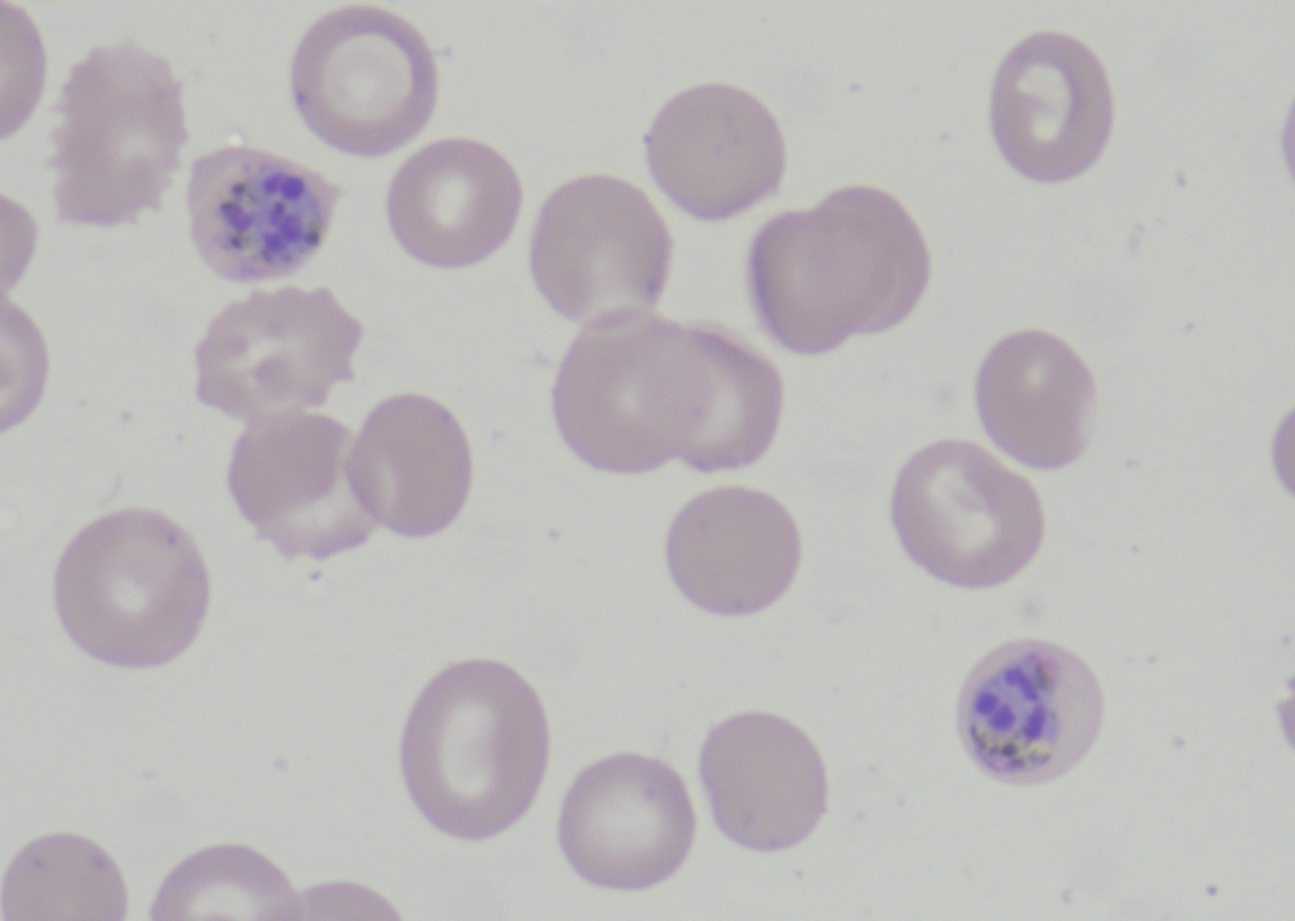Infected: (184, 145, 343, 284), (958, 639, 1106, 783)
Uninfected: (400, 655, 544, 845), (549, 313, 710, 477), (45, 48, 178, 236), (49, 507, 202, 666), (218, 421, 393, 554), (283, 7, 429, 162), (890, 446, 1040, 593), (196, 286, 355, 420), (636, 320, 782, 459), (751, 212, 887, 357), (558, 750, 698, 890), (537, 178, 665, 324), (650, 84, 790, 212), (697, 716, 827, 852), (353, 390, 468, 539), (668, 486, 797, 618), (393, 142, 520, 272), (998, 37, 1106, 188), (814, 178, 925, 323), (980, 331, 1094, 468)
